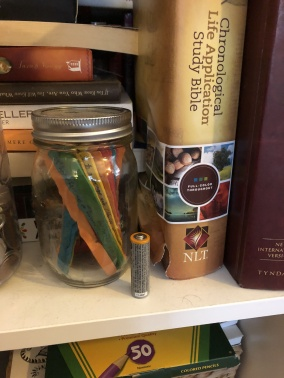battery: (118, 230, 163, 300)
